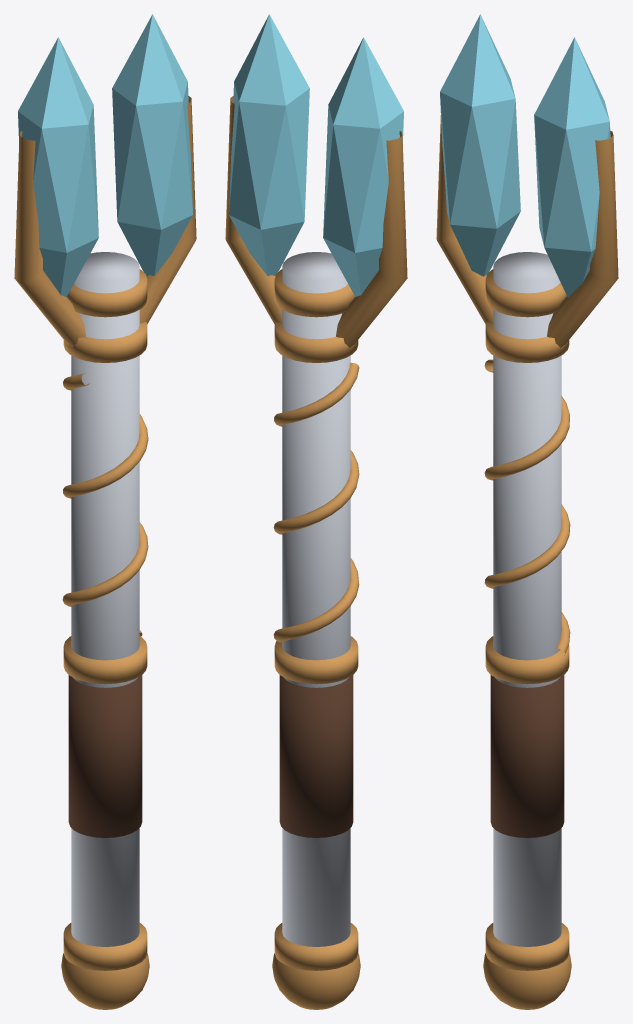
Rendered from prisme.glb.
3 renders of one model, left to right at view 1: azimuth 30°, elevation 25°; view 2: azimuth 150°, elevation 25°; view 3: azimuth 330°, elevation 25°, orthographic.
Visible parts, largest first — view 1: Arme_prisme; view 2: Arme_prisme; view 3: Arme_prisme.
Part boxes in pixels (box(x1,y1,x2,y2)): Arme_prisme: box(14, 14, 196, 1009); Arme_prisme: box(225, 14, 407, 1009); Arme_prisme: box(436, 14, 618, 1009).
Bounding box in the file's own units: 0.1619 × 0.855 × 0.07.
